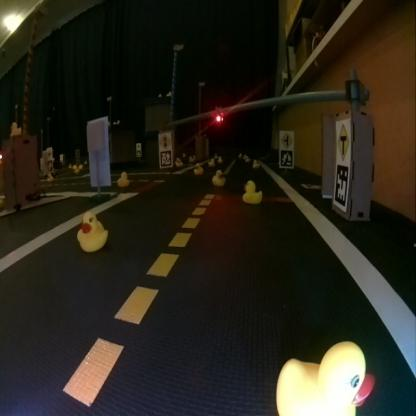Duckie: (276, 342, 375, 414), (77, 211, 107, 251), (243, 179, 261, 203), (212, 170, 225, 184), (117, 172, 129, 186), (10, 122, 20, 134), (193, 162, 203, 173), (252, 159, 259, 167), (208, 158, 214, 166), (216, 156, 222, 164), (176, 158, 180, 166)
Intersection sign: (337, 124, 349, 158), (282, 134, 292, 146)
QR code: (335, 165, 348, 206), (280, 150, 292, 165), (159, 151, 171, 166), (301, 183, 321, 191)
Signal sign: (160, 134, 170, 148)
Traffic light: (214, 112, 222, 122)
